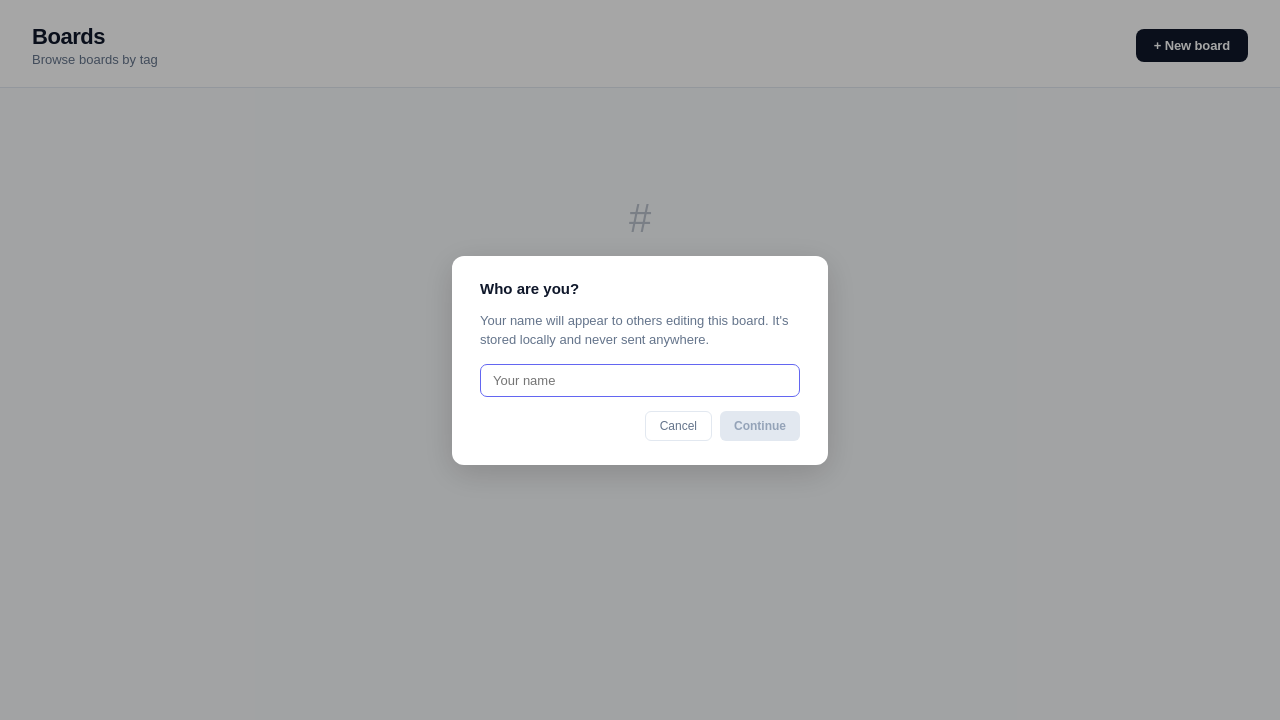
App view switch › IdentityPrompt wiring › submitting a name in the prompt persists it and dismisses the prompt
Expected: the text "Who are you?" is shown, [480,280,579,296]
In the field with placeholder "Your name": (640, 380) [480,364,800,396], type "Grace Hopper"
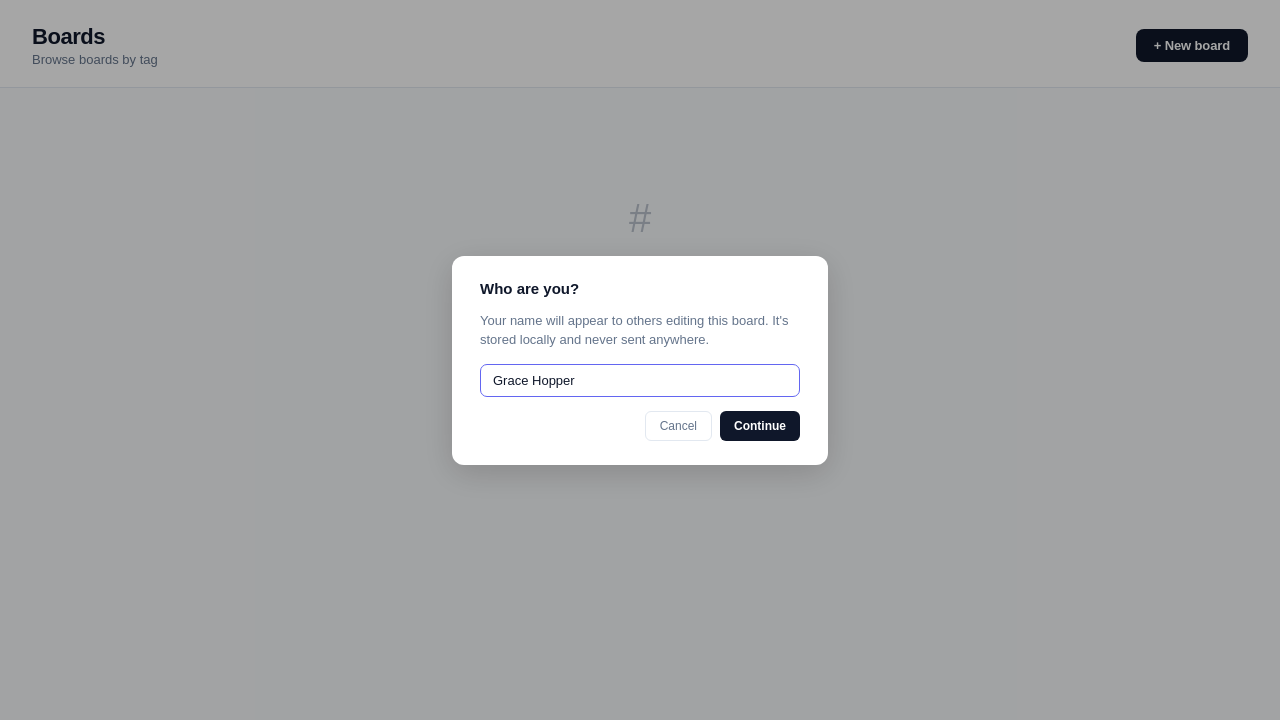
Click the button "Continue": (760, 426) [720,410,800,440]
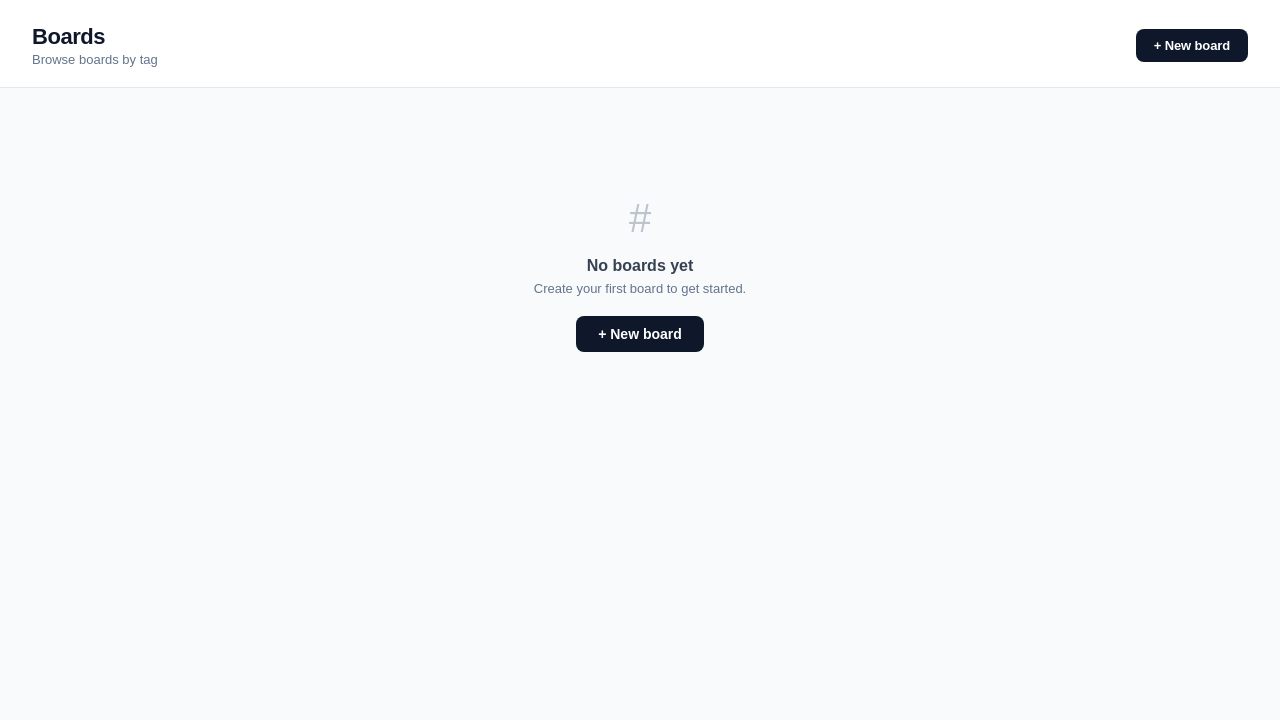
Expected: the text "Who are you" is gone
